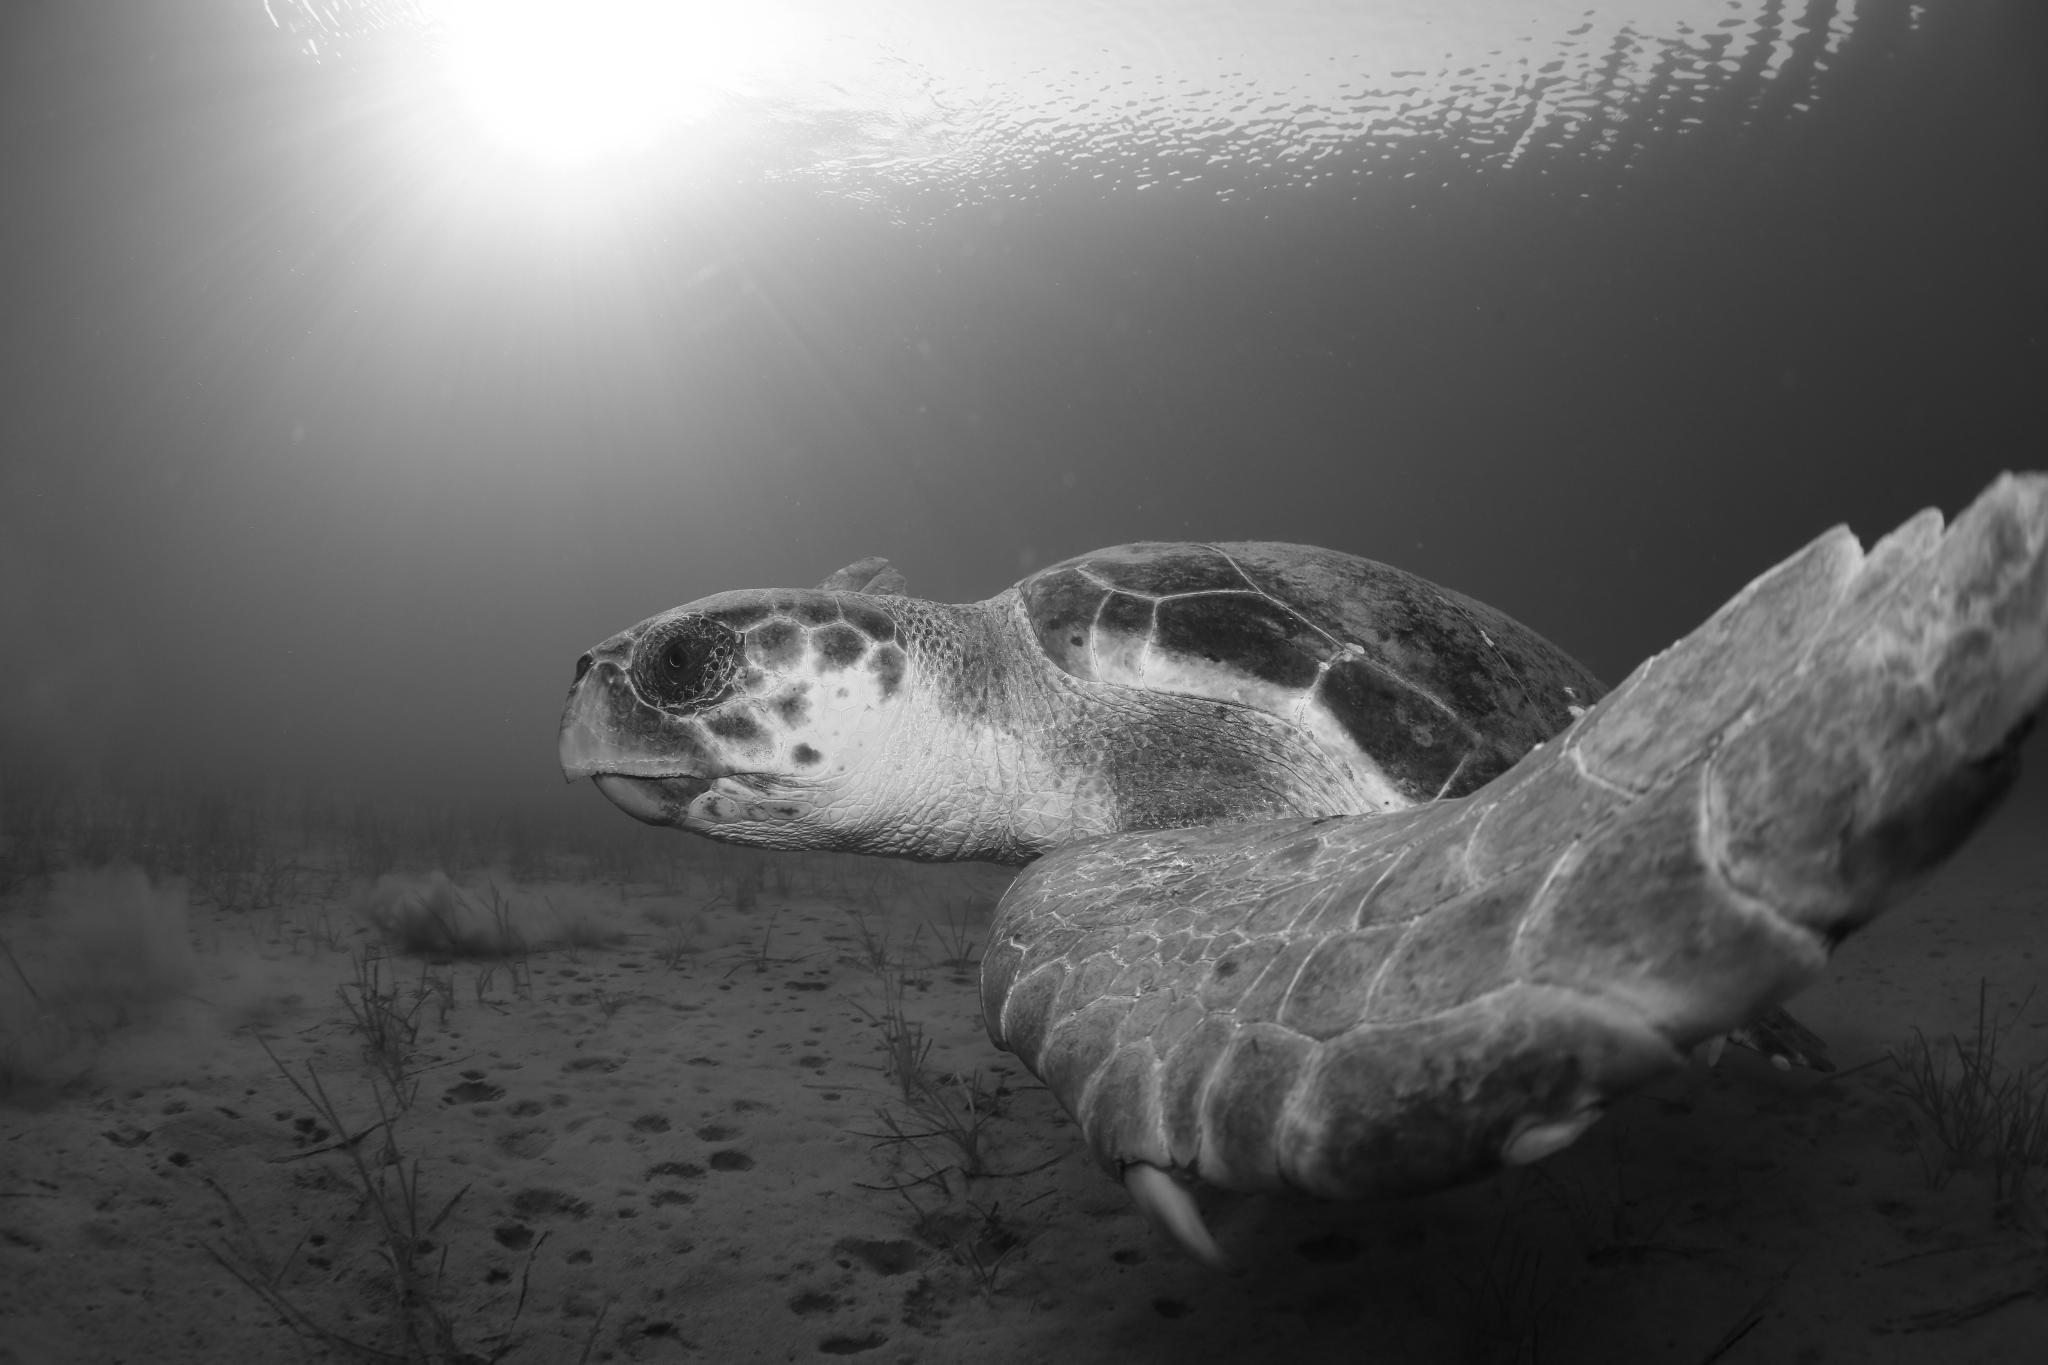Head: (559, 589, 1019, 860)
